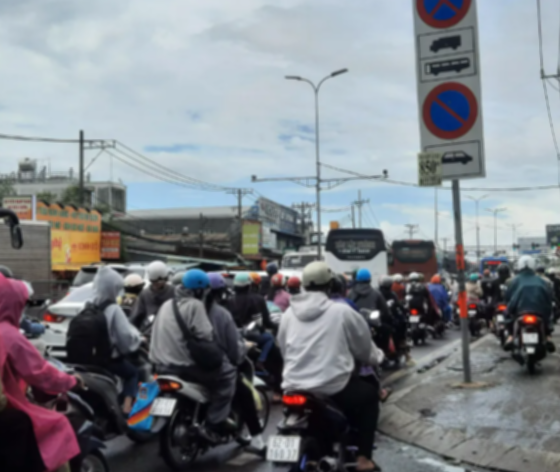Bien-so: (292, 414, 324, 443), (180, 386, 203, 407), (531, 307, 549, 320)
